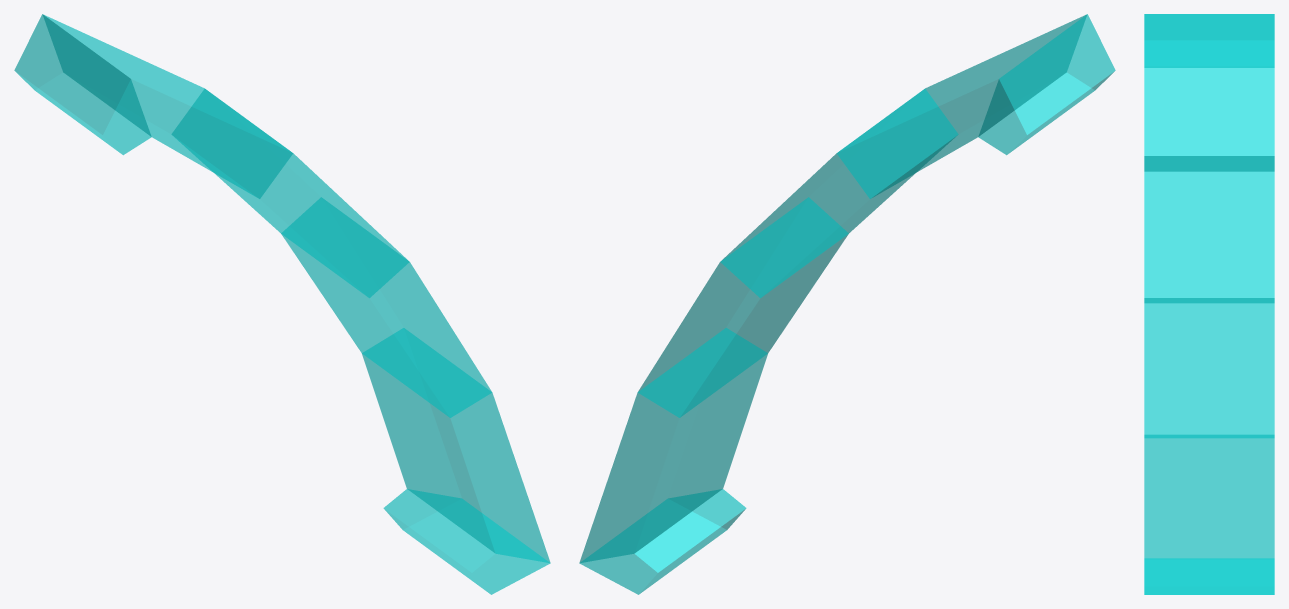
File: SM_Bld_Hall_Roof_01_Collision.fbx
3 renders of one model, left to right at view 1: azimuth 30°, elevation 25°; view 2: azimuth 150°, elevation 25°; view 3: azimuth 270°, elevation 25°, orthographic. The views are drawn at different scales.
Parts seen in each view (by area): view 1: SM_Bld_Hall_Roof_01_Collision; view 2: SM_Bld_Hall_Roof_01_Collision; view 3: SM_Bld_Hall_Roof_01_Collision.
Boxes of the visible parts, x1,y1,x2,y2 form: SM_Bld_Hall_Roof_01_Collision: (14, 14, 550, 594); SM_Bld_Hall_Roof_01_Collision: (579, 14, 1115, 594); SM_Bld_Hall_Roof_01_Collision: (1144, 14, 1274, 594).
Size of the model in its own units: 730 by 941 by 250.
